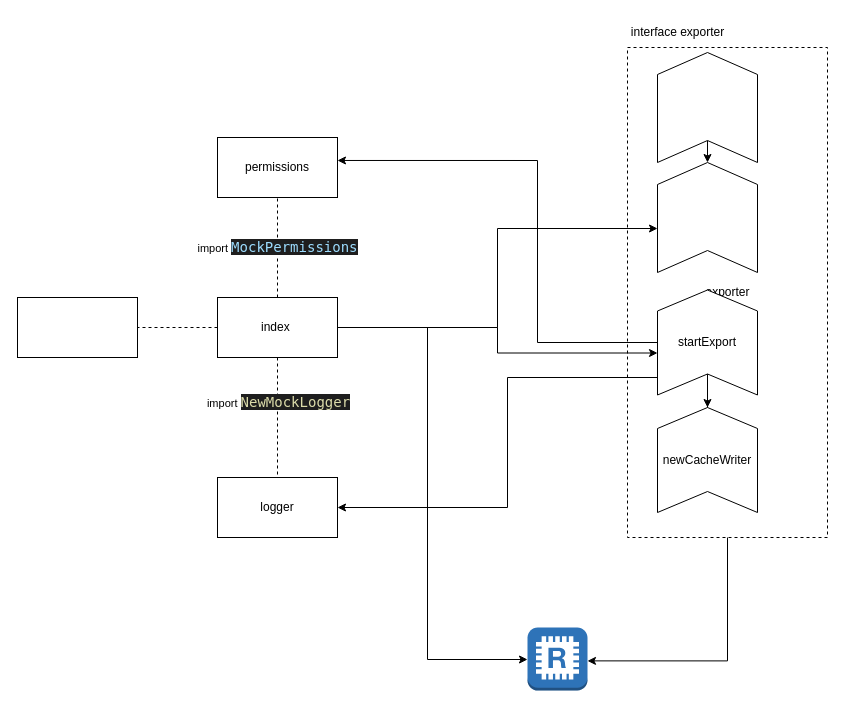
Some shapes in this 845 by 708 pixel diagram are drawn without their labels. The box of each missing label's shape, as (x1, y1, x2, y2) in pixels:
CancelExport: (656, 52, 758, 162)
GetExportStatus: (656, 162, 758, 272)
uuid: (16, 296, 138, 358)
